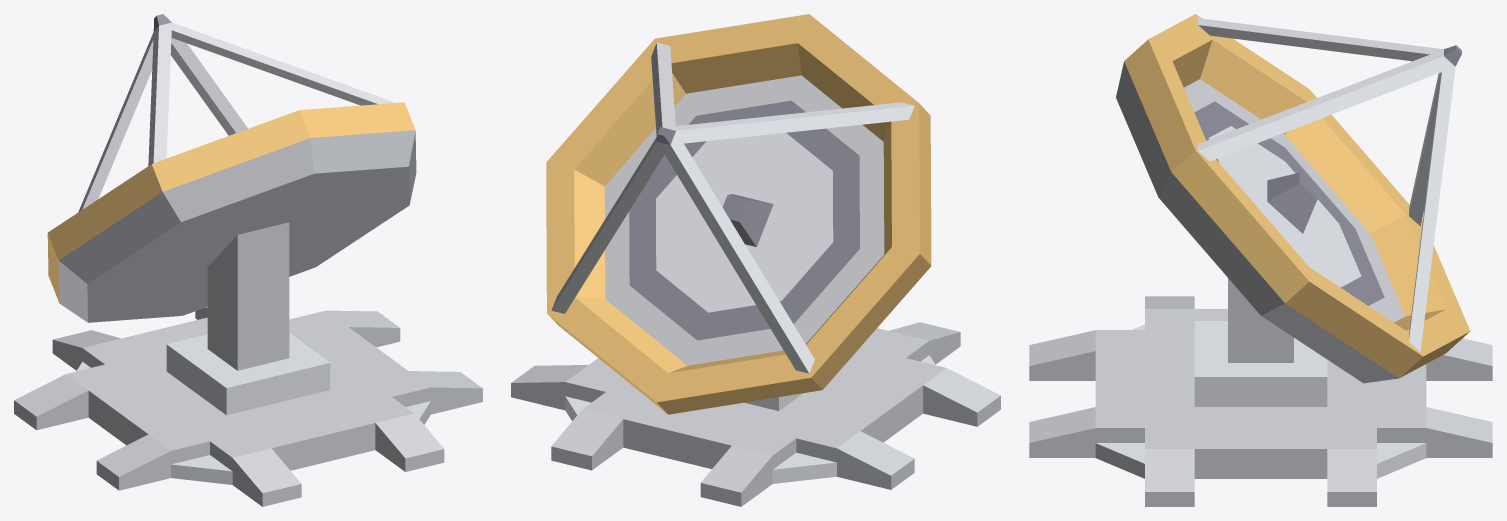
Rendered from antenna.glb.
The picture shows the model from 3 angles, left to right: view 1: azimuth 30°, elevation 25°; view 2: azimuth 150°, elevation 25°; view 3: azimuth 270°, elevation 25°; orthographic projection. The views are drawn at different scales.
Parts seen in each view (by area): view 1: satelliteDish_detailed; view 2: satelliteDish_detailed; view 3: satelliteDish_detailed.
Part boxes in pixels (bbox=[...]): satelliteDish_detailed: bbox=[14, 14, 482, 506]; satelliteDish_detailed: bbox=[511, 14, 1000, 506]; satelliteDish_detailed: bbox=[1029, 14, 1492, 506].
Size of the model in its own units: 0.7 by 0.6165 by 0.7.
Materials: 1 (1 with a texture image).
